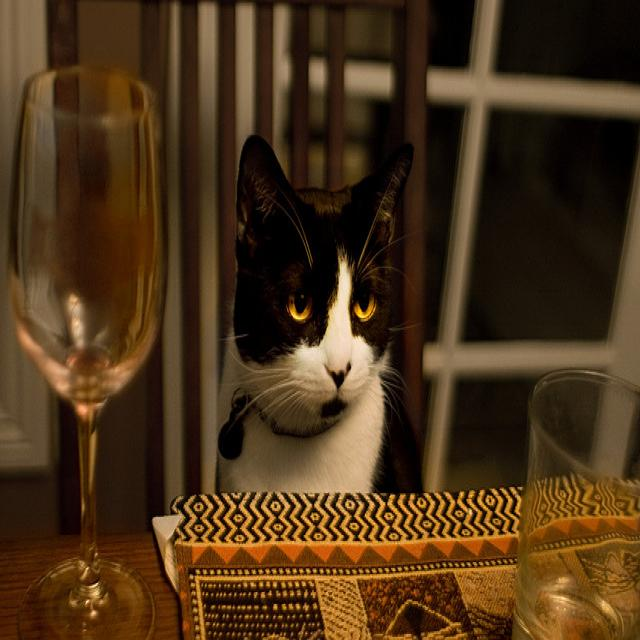chair: (47, 6, 429, 535)
dining table: (1, 485, 640, 633)
